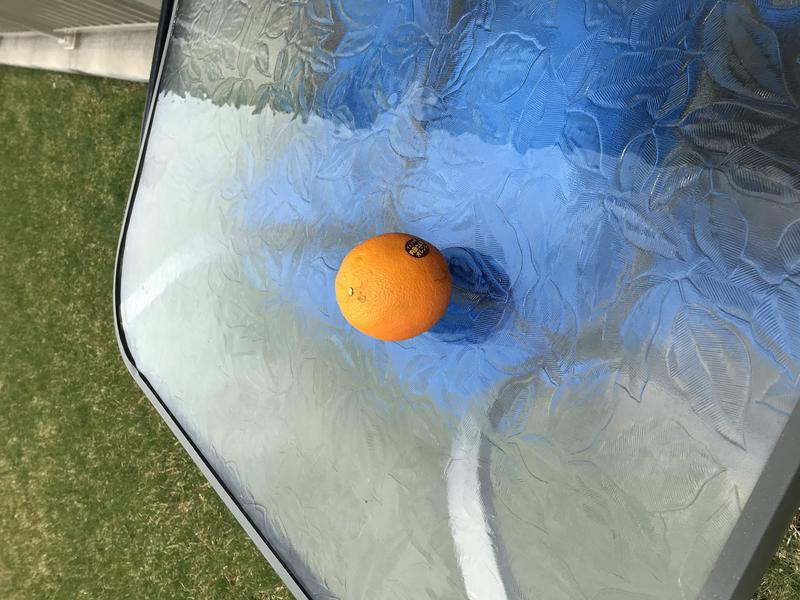orange: (329, 227, 460, 348)
